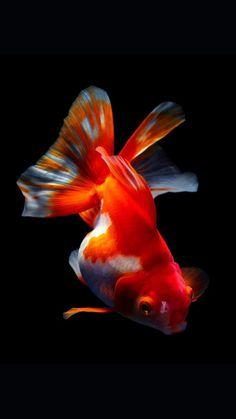goldfish: (12, 91, 218, 344)
